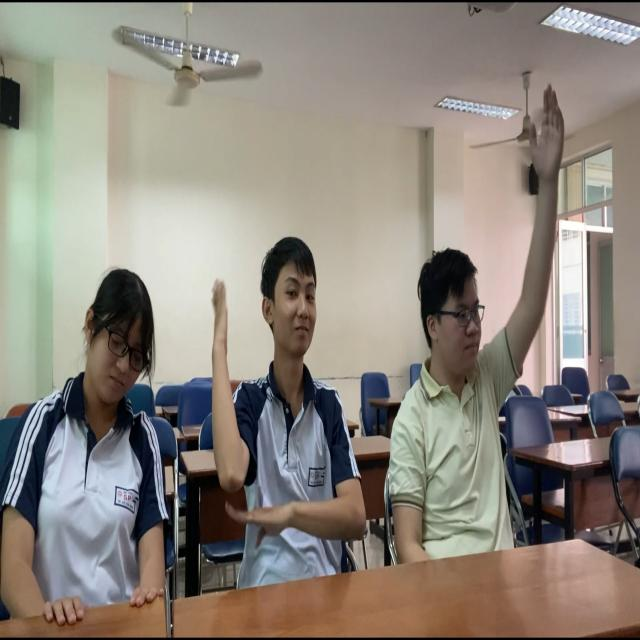raise_hand: (390, 85, 585, 590), (197, 193, 383, 610)
